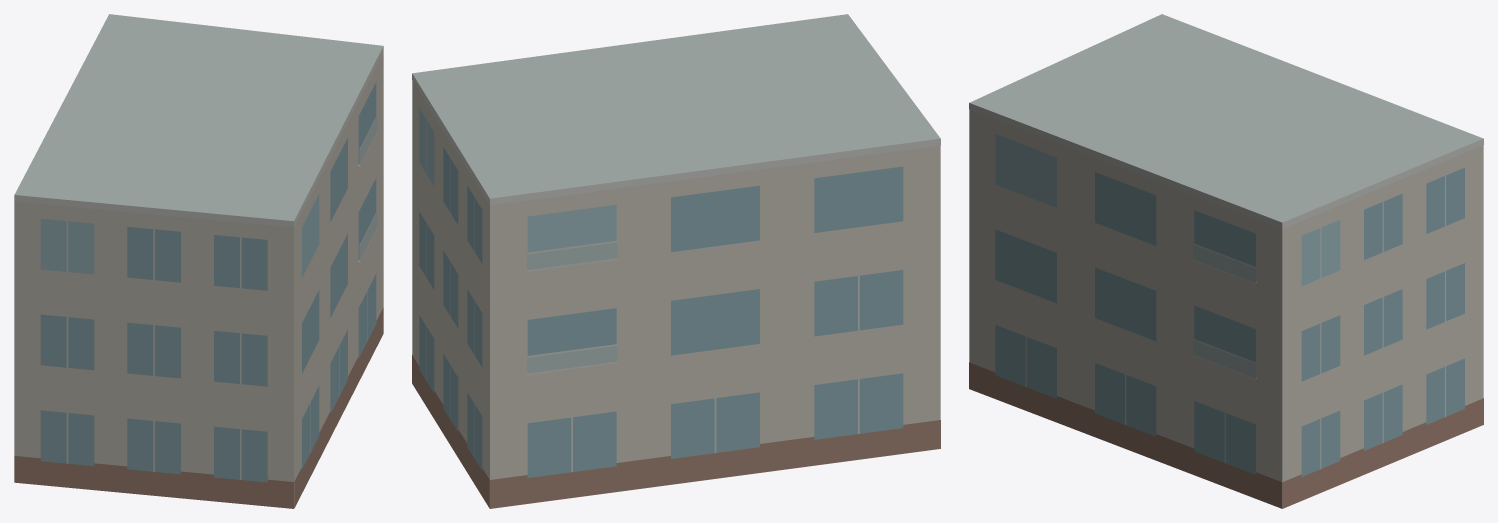
File: survey-upis-32968417.glb
The picture shows the model from 3 angles, left to right: view 1: azimuth 30°, elevation 25°; view 2: azimuth 150°, elevation 25°; view 3: azimuth 270°, elevation 25°; orthographic projection. The views are drawn at different scales.
Parts seen in each view (by area): view 1: survey-upis-32968417.tmp; view 2: survey-upis-32968417.tmp; view 3: survey-upis-32968417.tmp.
Part boxes in pixels (<box>): survey-upis-32968417.tmp: <box>14,14,383,508</box>; survey-upis-32968417.tmp: <box>412,14,940,508</box>; survey-upis-32968417.tmp: <box>969,14,1483,508</box>.
Bounding box in the file's own units: 17.13 × 10.95 × 17.85.
